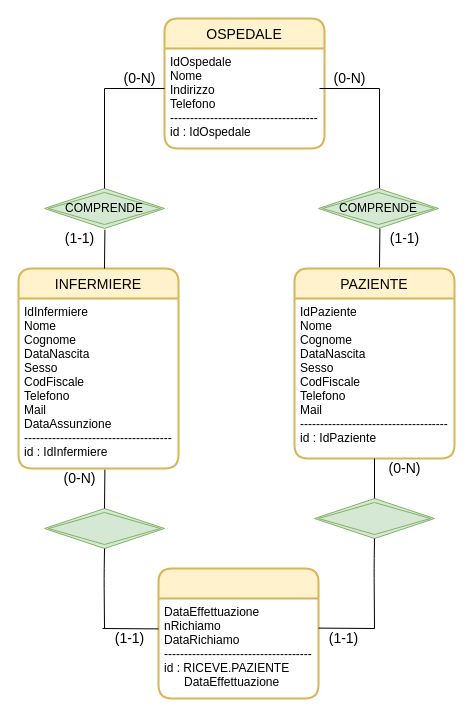
This 472x716 diagram has some shape labels left out. The shapes that lost their labels are listed below. From the top down, each one's box as (x1, y1, x2, y2) in pixels, then its label:
(44, 508, 164, 548): EFFETTUA
(314, 498, 434, 538): RICEVE
(157, 567, 319, 699): VACCINAZIONE
